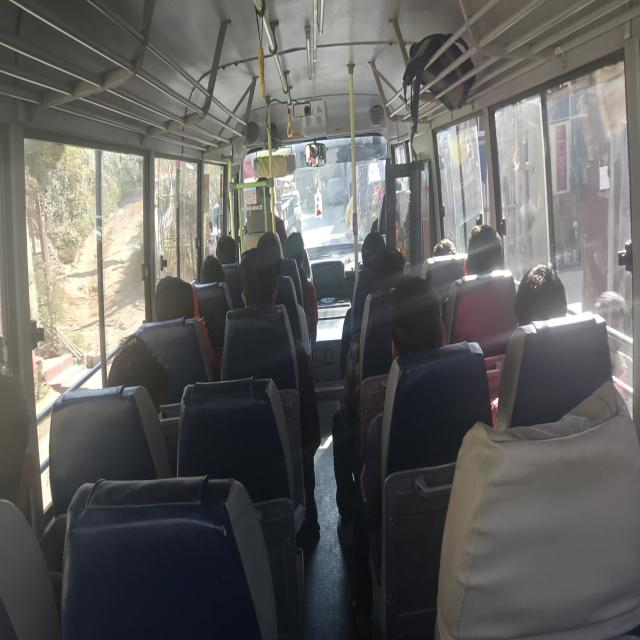person: (106, 321, 160, 407), (0, 354, 34, 487), (510, 260, 564, 330), (395, 288, 447, 360), (242, 255, 284, 342), (125, 267, 182, 313), (462, 209, 495, 261), (378, 238, 408, 291), (256, 231, 285, 270), (285, 230, 313, 268), (216, 233, 244, 270), (358, 235, 386, 269), (427, 228, 457, 259), (208, 252, 225, 298)
